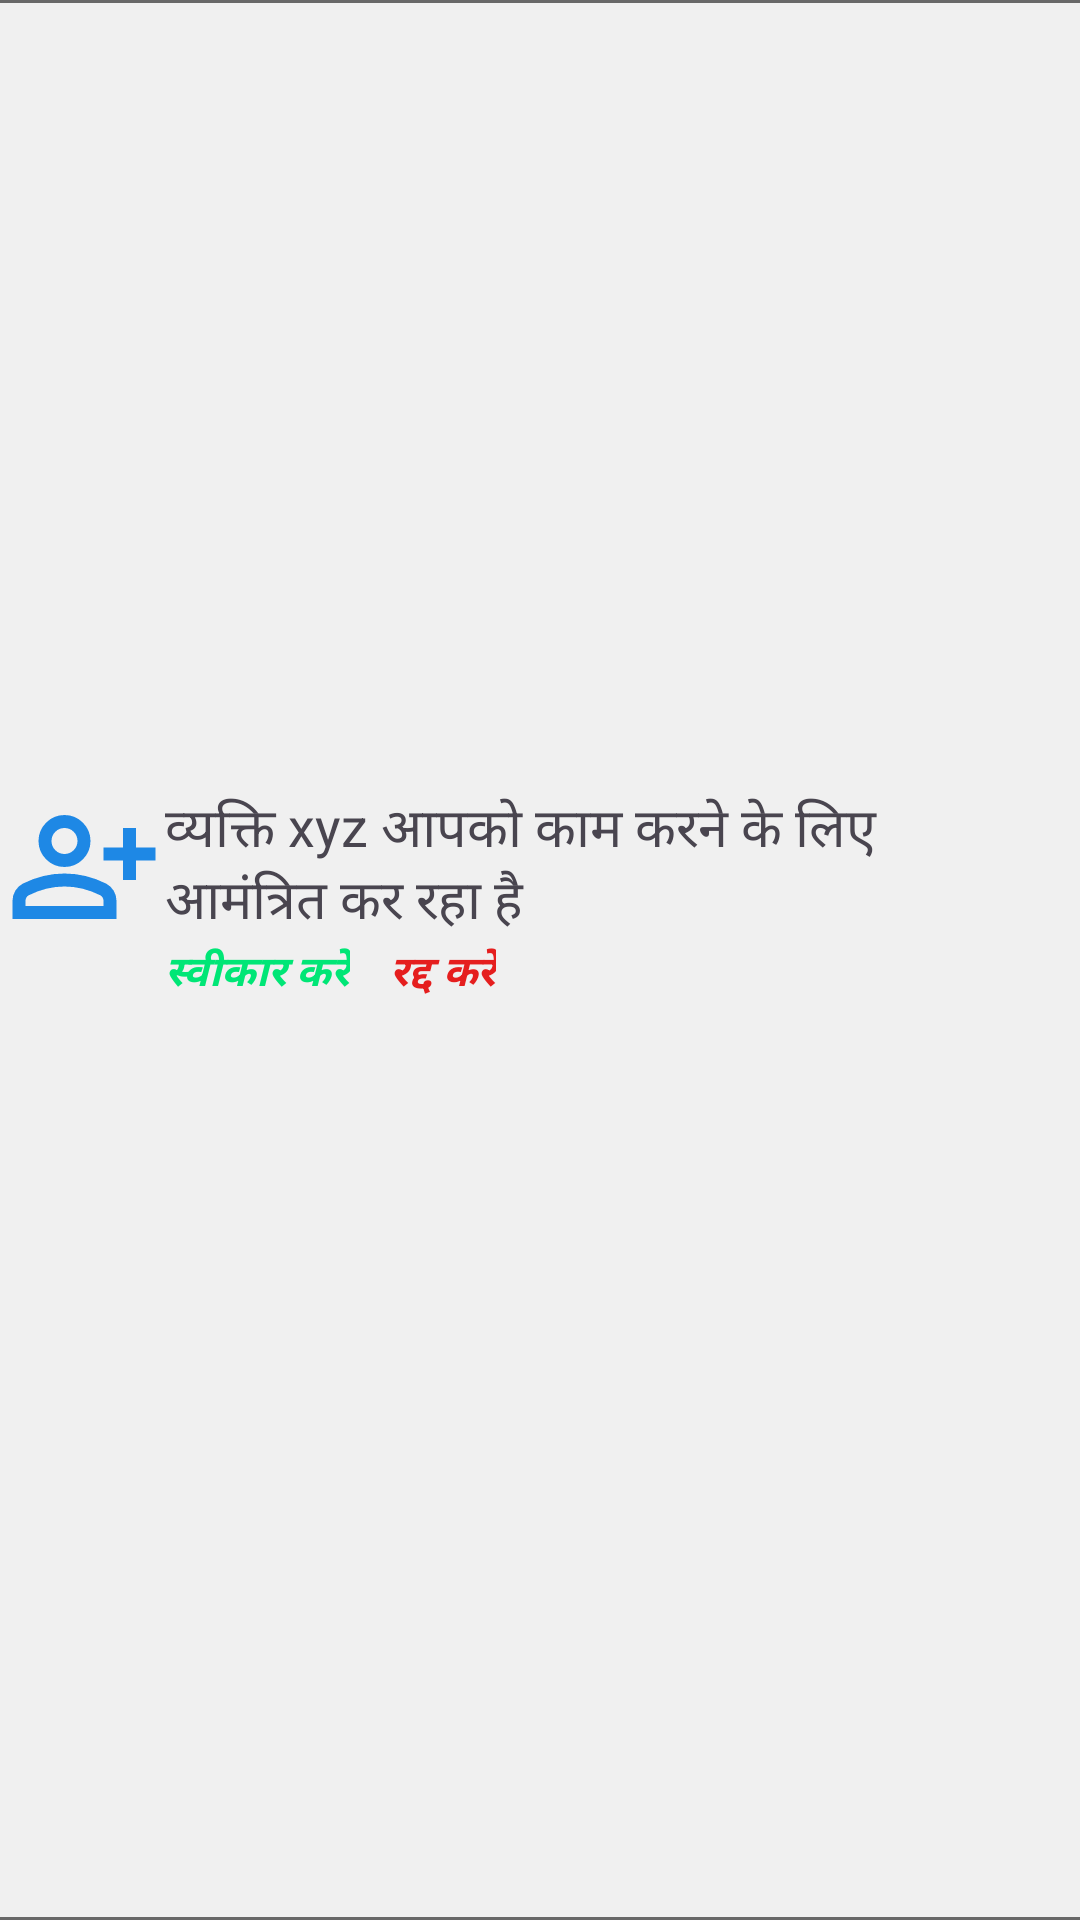

Named icons in this screenshot (1080*1920) and their centers, [x,y]:
person add: [84,867]
